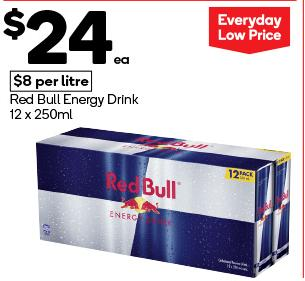description_block: (5, 90, 140, 123)
price_main: (1, 4, 144, 70)
product_image_block: (10, 124, 300, 278)
promo_text_block: (204, 6, 294, 57)
unit_price_block: (5, 67, 100, 93)
